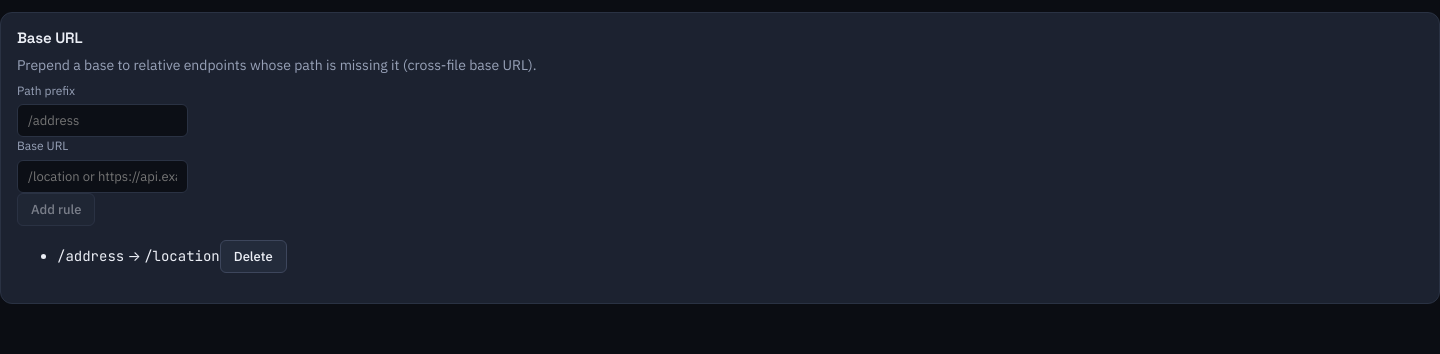
BaseUrlPanel › shows a readable message when delete fails and keeps the rule
The width and height of the screenshot is (1440, 354).
Click the button with aria-label "Delete rule /address" at (253,256), box [220,240,287,273]
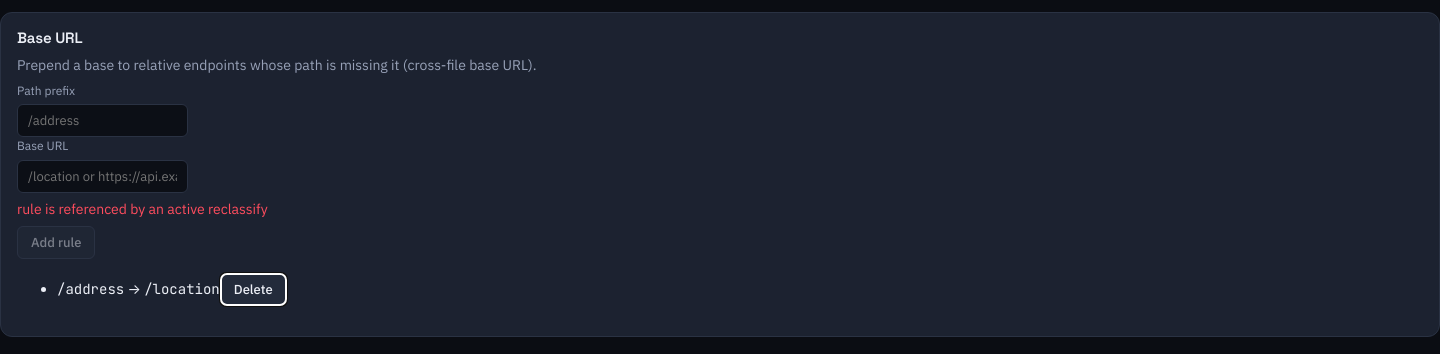
Expected: the button with aria-label "Delete rule /address" is shown, [220,273,287,306]
Expected: the text "rule is referenced by an active reclassify" is shown, [17,200,268,218]
